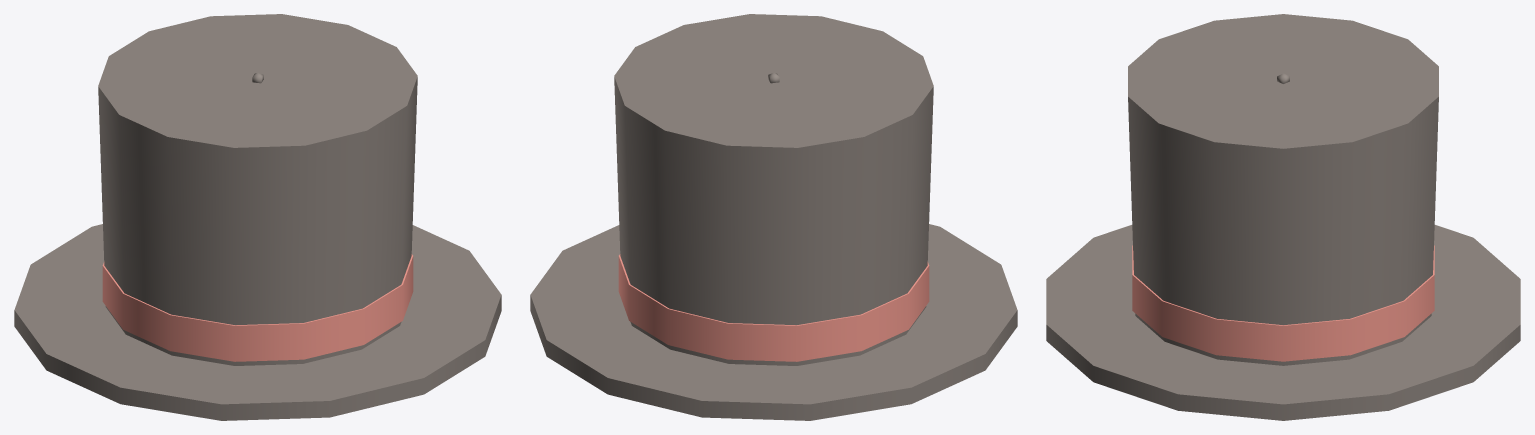
The model's file is hat_tophat.glb.
The picture shows the model from 3 angles, left to right: view 1: azimuth 30°, elevation 25°; view 2: azimuth 150°, elevation 25°; view 3: azimuth 270°, elevation 25°; orthographic projection.
Parts seen in each view (by area): view 1: hat_tophat; view 2: hat_tophat; view 3: hat_tophat.
Boxes of the visible parts, <box> form: hat_tophat: <box>14,14,501,420</box>; hat_tophat: <box>530,14,1017,420</box>; hat_tophat: <box>1046,14,1520,420</box>.
Bounding box in the file's own units: 32 × 17.8 × 31.2.
